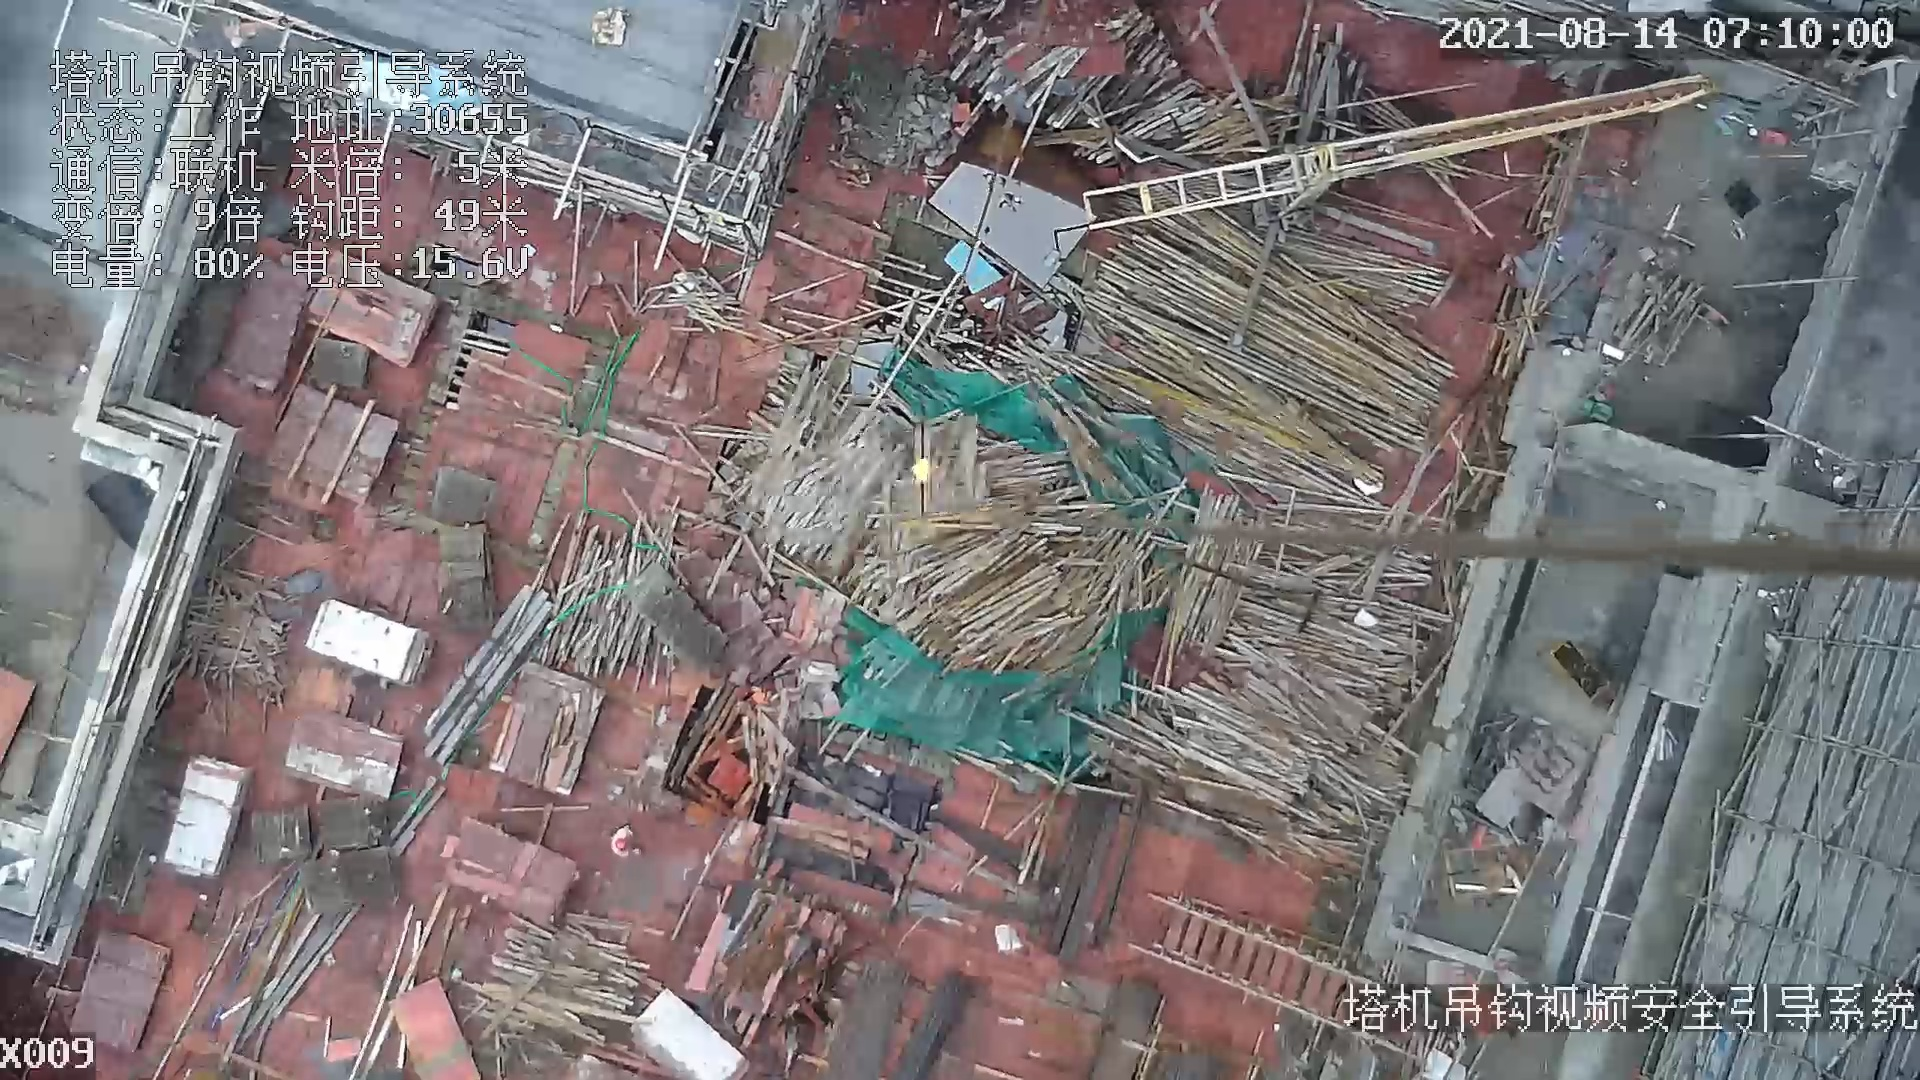helmet: (616, 838, 627, 850)
hook: (904, 417, 945, 526)
person: (613, 822, 651, 863)
